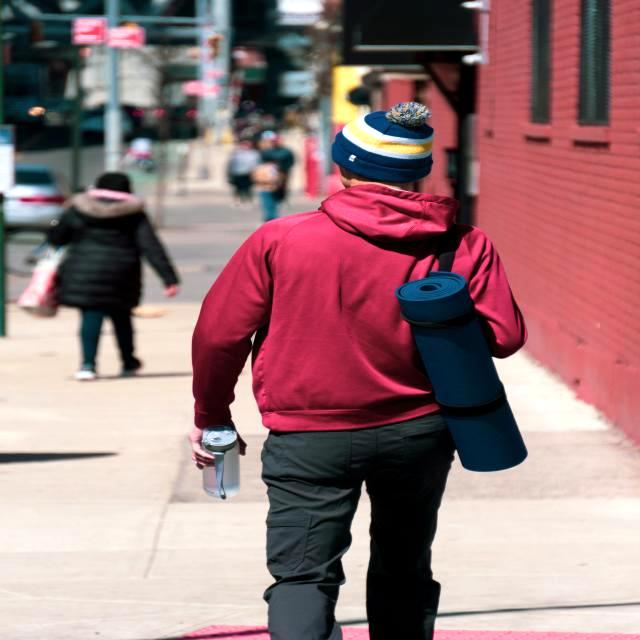no_hard_hat: (332, 102, 434, 183)
no_head_wear: (92, 172, 132, 184)
person: (191, 103, 525, 640), (46, 172, 179, 380)
